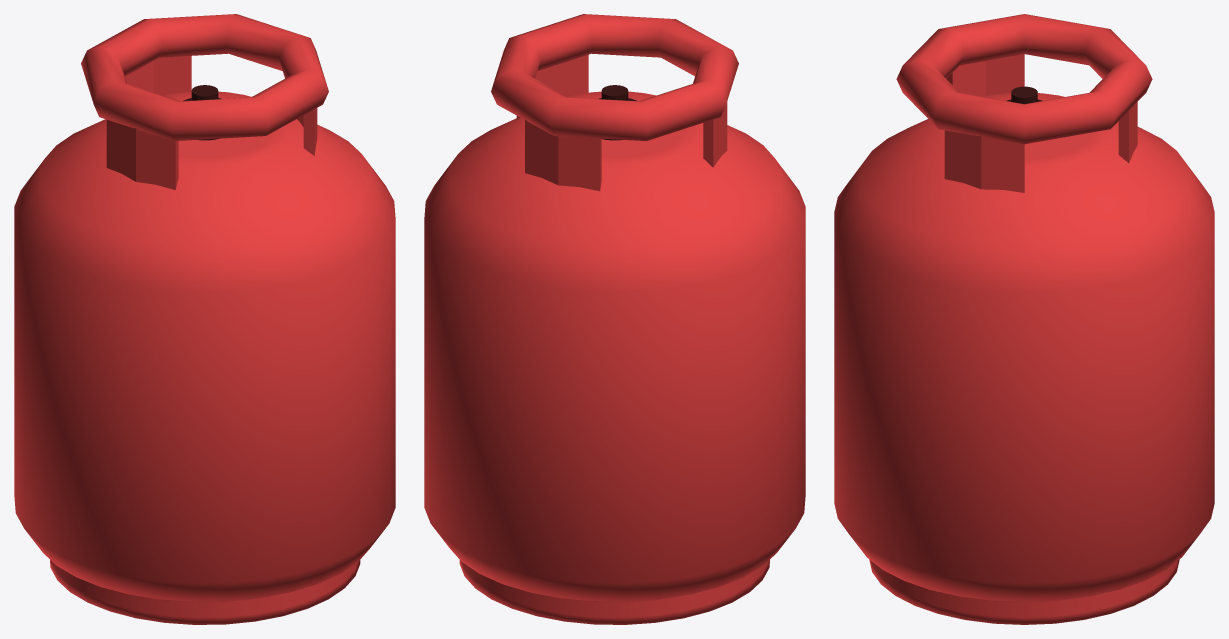
File: GasTank.fbx
The picture shows the model from 3 angles, left to right: view 1: azimuth 30°, elevation 25°; view 2: azimuth 150°, elevation 25°; view 3: azimuth 270°, elevation 25°; orthographic projection.
Visible parts, largest first — view 1: Circle, Circle.001; view 2: Circle, Circle.001; view 3: Circle, Circle.001.
Part boxes in pixels (x1=…): Circle: x1=14, y1=14, x2=395, y2=624; Circle.001: x1=106, y1=56, x2=317, y2=189; Circle: x1=424, y1=14, x2=805, y2=624; Circle.001: x1=516, y1=54, x2=727, y2=191; Circle: x1=834, y1=14, x2=1214, y2=624; Circle.001: x1=944, y1=54, x2=1137, y2=192.
Bounding box in the file's own units: 200 × 290 × 200.
